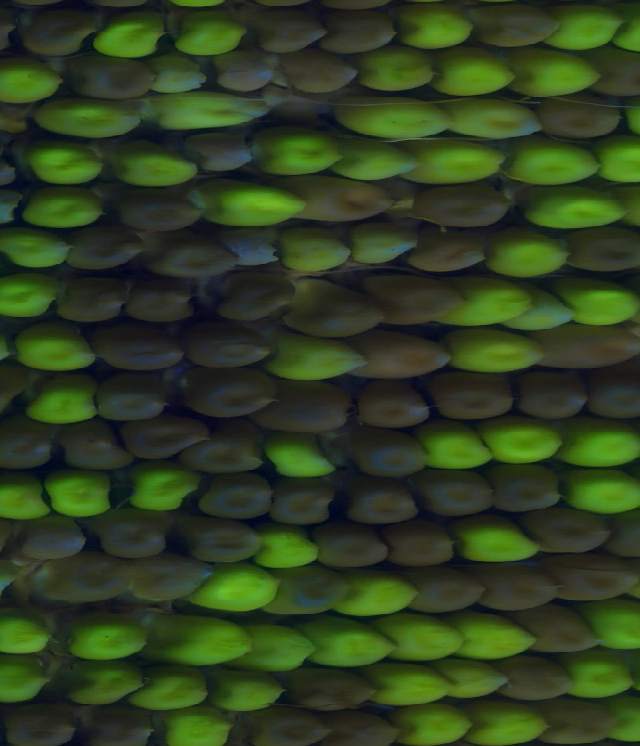fluorescent: (379, 613, 470, 668), (2, 321, 97, 373), (166, 611, 257, 665), (336, 95, 452, 137), (413, 137, 513, 182), (336, 572, 414, 627), (552, 4, 636, 55), (146, 97, 269, 131), (559, 421, 639, 473), (511, 140, 598, 187), (281, 221, 359, 272), (307, 620, 392, 666), (457, 520, 542, 566), (434, 45, 507, 97), (349, 46, 428, 94), (173, 14, 250, 63), (337, 137, 417, 184), (133, 663, 213, 710), (270, 336, 353, 381), (27, 149, 113, 192), (33, 98, 130, 136), (536, 184, 628, 224), (204, 563, 276, 614), (492, 231, 573, 276), (257, 131, 334, 178), (115, 142, 197, 185), (513, 58, 594, 101), (66, 613, 147, 656), (565, 471, 640, 517), (460, 276, 533, 323), (560, 653, 630, 701), (117, 469, 191, 514), (24, 385, 95, 431), (562, 284, 634, 329), (460, 613, 530, 659), (252, 531, 324, 575), (450, 339, 537, 375), (101, 17, 169, 63), (421, 431, 497, 471), (465, 107, 540, 147), (53, 472, 113, 520), (207, 671, 279, 711), (398, 708, 472, 746), (72, 658, 142, 698), (255, 617, 308, 669), (0, 649, 49, 705), (205, 191, 299, 220), (159, 711, 244, 742), (492, 426, 557, 466), (0, 231, 70, 268), (359, 220, 407, 272), (268, 440, 337, 476), (0, 56, 59, 98), (475, 704, 534, 746), (378, 669, 452, 702), (0, 613, 53, 659), (518, 285, 572, 330), (14, 195, 107, 221), (443, 662, 510, 698), (0, 476, 53, 520), (0, 275, 50, 320), (402, 16, 469, 47), (595, 605, 640, 645), (598, 145, 640, 187), (162, 65, 213, 97)
nonfluorescent: (363, 272, 476, 331), (257, 379, 353, 433), (14, 10, 111, 59), (184, 372, 279, 420), (298, 181, 404, 223), (355, 329, 449, 376), (40, 550, 133, 597), (426, 185, 517, 233), (466, 1, 562, 46), (94, 330, 195, 372), (268, 479, 356, 527), (279, 289, 379, 331), (278, 665, 378, 707), (276, 563, 346, 623), (207, 269, 288, 318), (94, 511, 181, 555), (149, 234, 242, 275), (52, 273, 128, 323), (95, 375, 168, 427), (181, 511, 260, 559), (353, 379, 437, 424), (284, 53, 362, 101), (433, 373, 511, 421), (73, 56, 156, 100), (198, 330, 276, 375), (0, 700, 76, 746), (85, 698, 159, 745), (130, 559, 214, 600), (120, 195, 215, 231), (70, 230, 146, 275), (550, 330, 640, 368), (569, 220, 640, 268), (417, 231, 485, 281), (20, 517, 89, 566), (247, 704, 327, 746), (328, 702, 404, 746), (550, 559, 637, 597), (415, 566, 485, 613), (184, 433, 260, 476), (488, 566, 556, 614), (388, 523, 455, 571), (205, 476, 268, 527), (128, 279, 199, 323), (118, 421, 207, 456), (552, 94, 615, 143), (547, 702, 621, 743), (579, 372, 640, 420), (327, 10, 395, 53), (59, 426, 127, 469), (513, 376, 584, 417), (0, 418, 57, 469), (431, 463, 482, 520), (346, 436, 424, 472), (527, 610, 597, 650), (504, 469, 563, 516), (218, 55, 284, 97), (536, 514, 608, 550), (360, 484, 431, 520), (192, 136, 257, 173), (257, 10, 327, 43), (510, 658, 570, 695), (597, 55, 640, 101), (327, 533, 388, 565), (608, 514, 640, 558)
